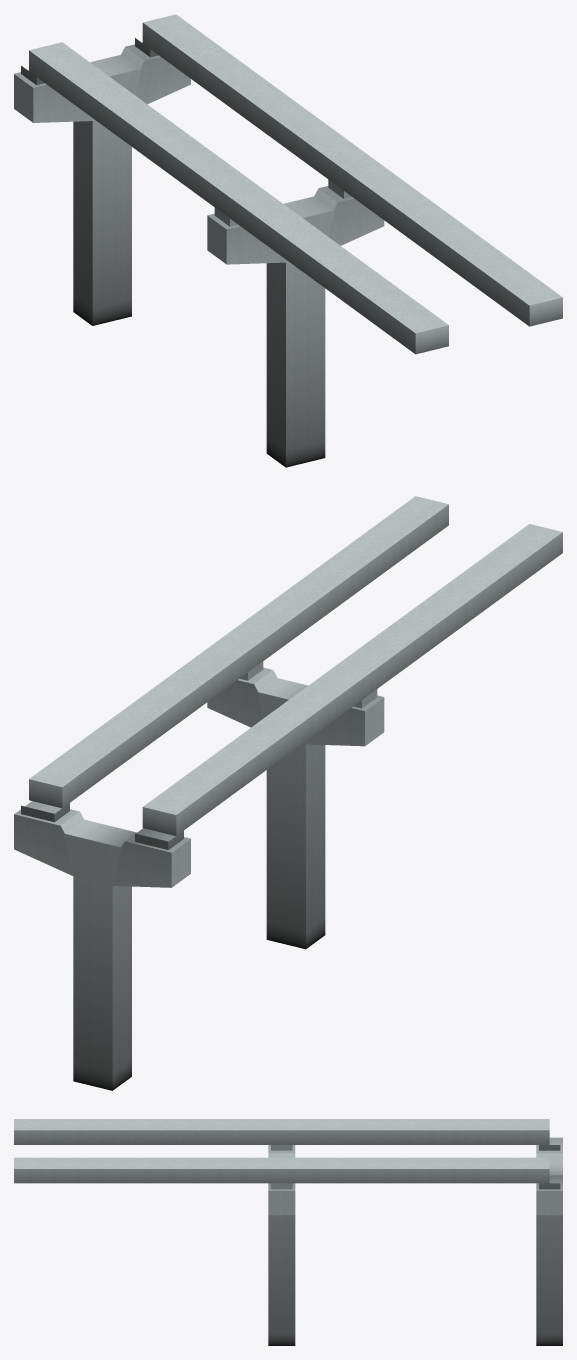
File: MONORAIL.glb
3 views of the same model, one above another, from view 1: azimuth 30°, elevation 25°; view 2: azimuth 150°, elevation 25°; view 3: azimuth 270°, elevation 25° (orthographic). The views are drawn at different scales.
Visible parts, largest first — view 1: obj8, V00, obj2; view 2: obj8, obj2, V00; view 3: obj8, obj2, V00.
Boxes of the visible parts, x1,y1,x2,y2 form: obj8: (29, 14, 562, 354); V00: (207, 179, 384, 467); obj2: (14, 38, 190, 325); obj8: (29, 496, 562, 835); obj2: (14, 801, 190, 1090); V00: (207, 661, 384, 949); obj8: (14, 1119, 549, 1183); obj2: (536, 1137, 562, 1345); V00: (268, 1145, 295, 1345).
Size of the model in its own units: 23.55 by 40.21 by 102.
Materials: 3 (3 with a texture image).
